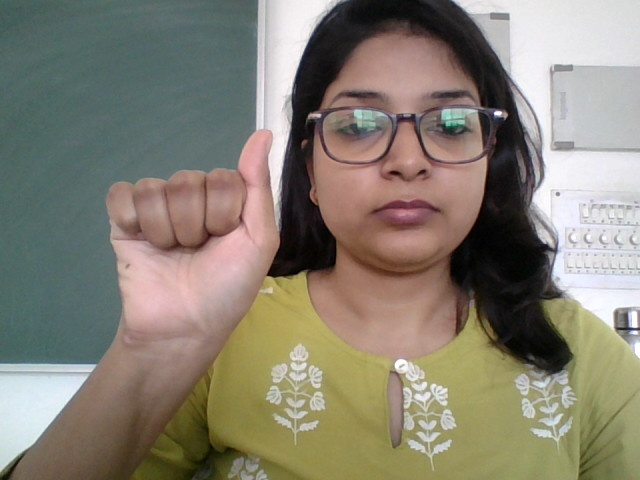A: (98, 121, 296, 386)
